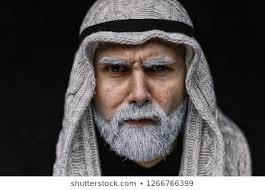middle_eastern_male: (88, 31, 197, 159)
